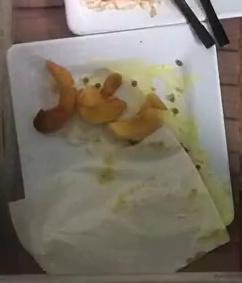fries: (33, 61, 167, 141)
